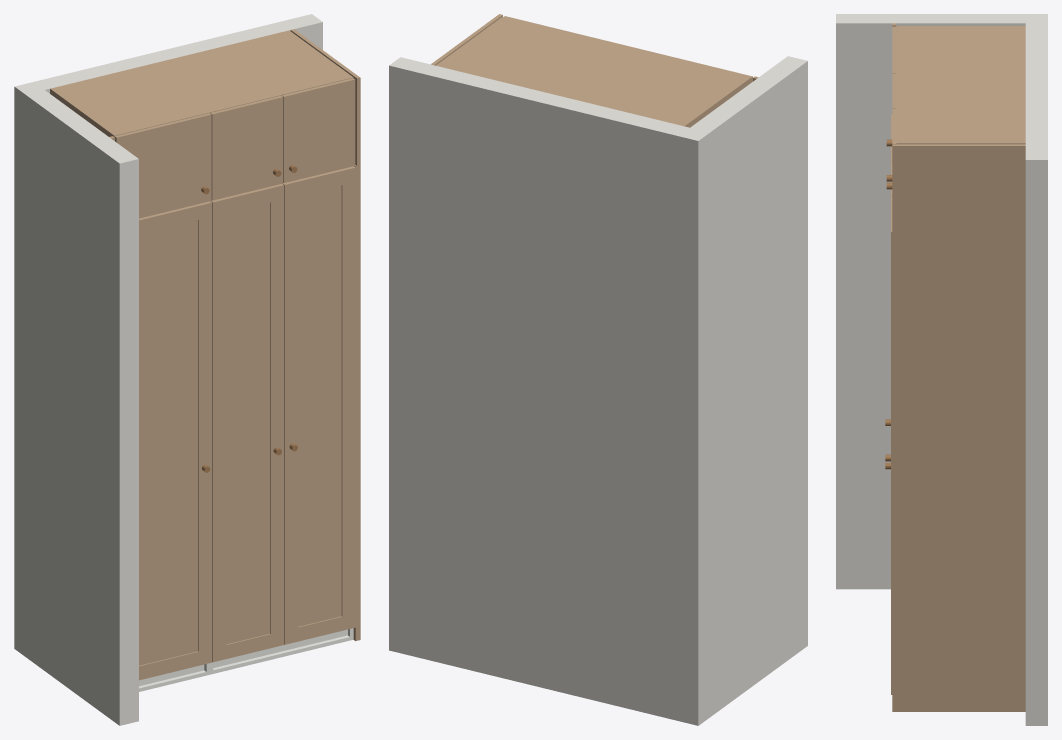
The model's file is a-phbr4p.glb.
3 renders of one model, left to right at view 1: azimuth 30°, elevation 25°; view 2: azimuth 150°, elevation 25°; view 3: azimuth 270°, elevation 25°, orthographic. The views are drawn at different scales.
Parts seen in each view (by area): view 1: Room: Left wall, Unit 1: Door, Unit 2: Door, right, Unit 2: Door, left, Unit 2: Door, right frame, Unit 2: Door, left frame, Room: Back wall, Unit 2: Top box: Top, Unit 1: Door frame, Unit 1: Top box: Door, Unit 2: Top box: Door, left, Unit 2: Top box: Door, right (+5 smaller); view 2: Room: Back wall, Room: Left wall, Unit 2: Top box: Top, Unit 1: Top box: Top; view 3: End panel, right, Room: Left wall, Room: Back wall, Unit 2: Top box: Top, Unit 1: Top box: Top, Unit 2: Door, right frame, Unit 2: Top box: Side, right.
Boxes of the visible parts, x1,y1,x2,y2 form: Room: Left wall: [25, 90, 138, 725]; Unit 1: Door: [139, 201, 211, 665]; Unit 2: Door, right: [282, 166, 354, 626]; Unit 2: Door, left: [210, 184, 282, 644]; Unit 2: Door, right frame: [284, 167, 355, 644]; Unit 2: Door, left frame: [212, 184, 283, 662]; Room: Back wall: [14, 14, 322, 656]; Unit 2: Top box: Top: [149, 31, 349, 111]; Unit 1: Door frame: [139, 202, 212, 680]; Unit 1: Top box: Door: [114, 113, 211, 218]; Unit 2: Top box: Door, left: [210, 95, 283, 200]; Unit 2: Top box: Door, right: [282, 78, 355, 182]; Room: Back wall: [389, 57, 709, 725]; Room: Left wall: [690, 56, 807, 717]; Unit 2: Top box: Top: [439, 17, 647, 101]; Unit 1: Top box: Top: [589, 54, 747, 125]; End panel, right: [892, 144, 1025, 711]; Room: Left wall: [836, 14, 1025, 589]; Room: Back wall: [1025, 14, 1047, 725]; Unit 2: Top box: Top: [896, 74, 1025, 141]; Unit 1: Top box: Top: [896, 27, 1025, 71]; Unit 2: Door, right frame: [891, 197, 892, 694]; Unit 2: Top box: Side, right: [896, 141, 1025, 144].
Bounding box in the file's own units: 1.55 × 2.8 × 0.95.
